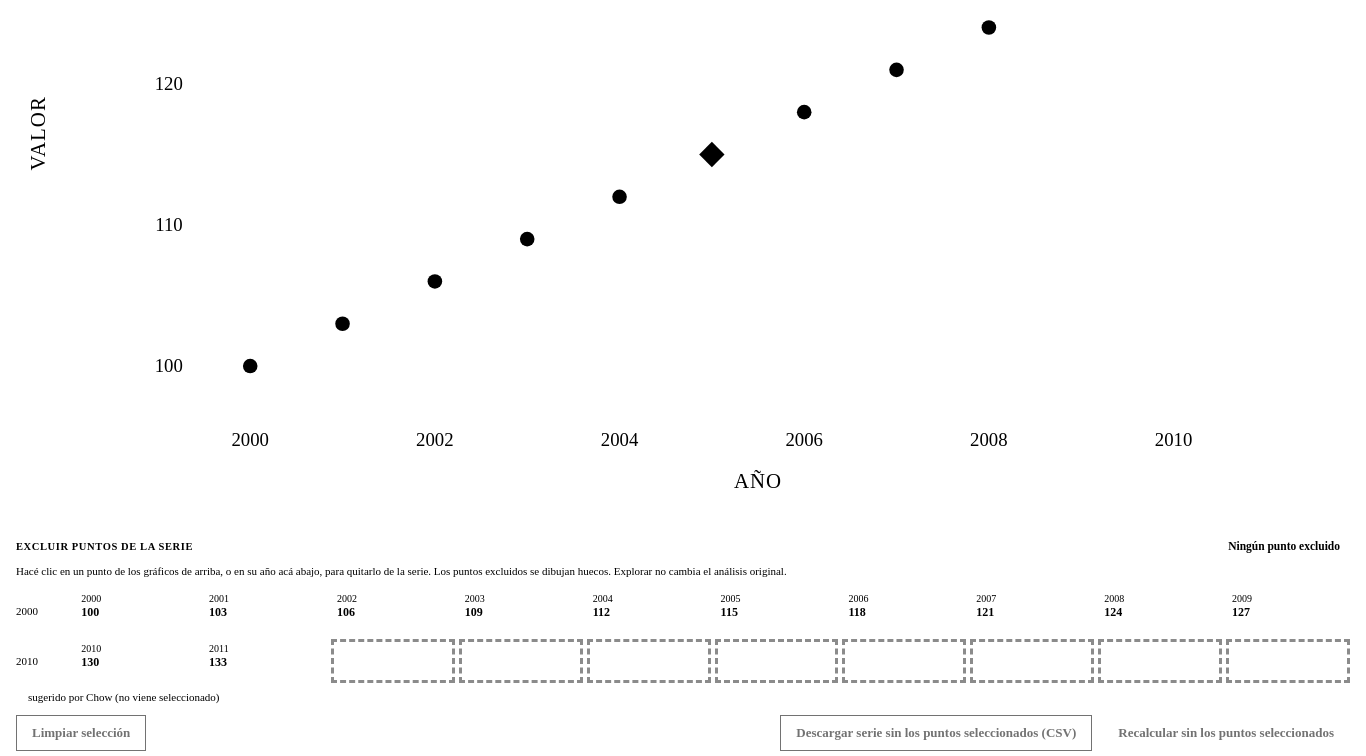
Etapa1GraficosView — recalcular sin los puntos (A2) › si el backend rechaza el pedido muestra el error y no una comparación
(page scrolled)
Click the button "2005 115" at (777, 611), box left=715, top=589, right=838, bottom=633
(page scrolled)
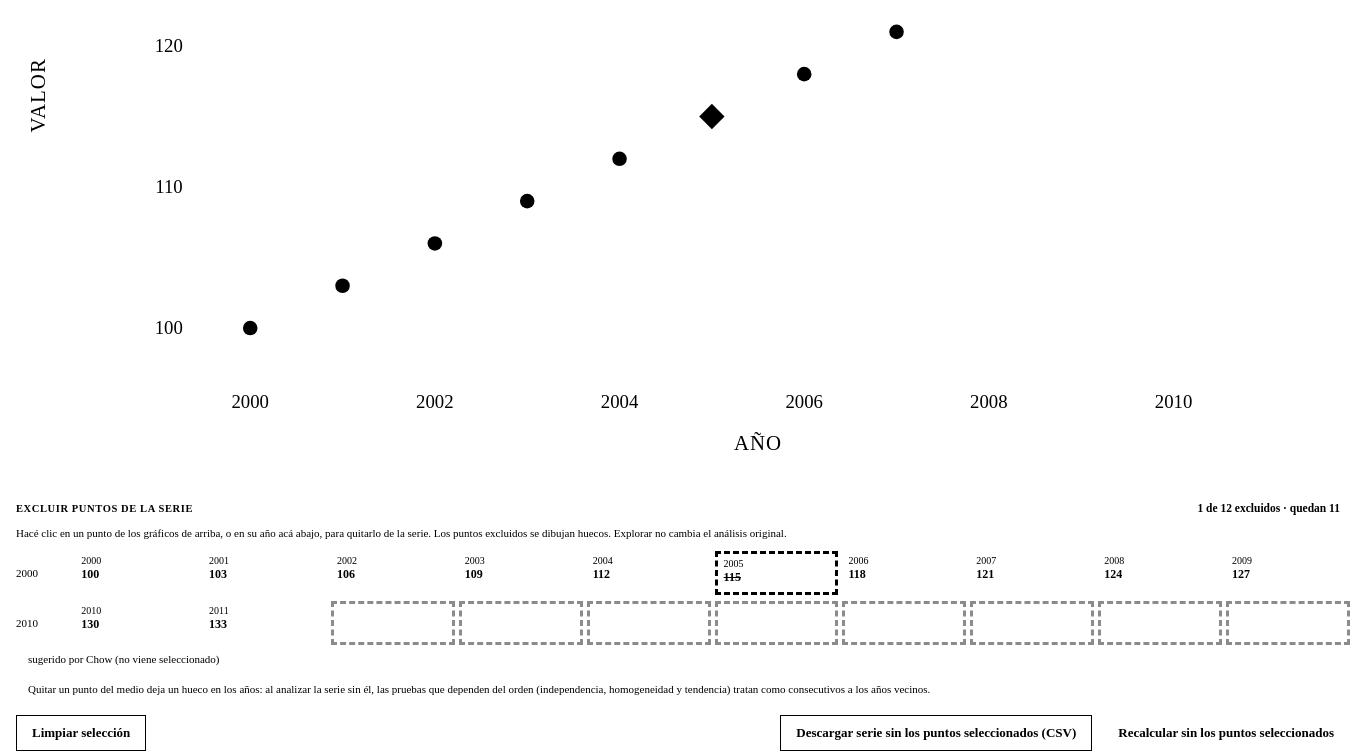
Click the button "Recalcular sin los puntos seleccionados" at (1226, 733), box left=1102, top=715, right=1350, bottom=751
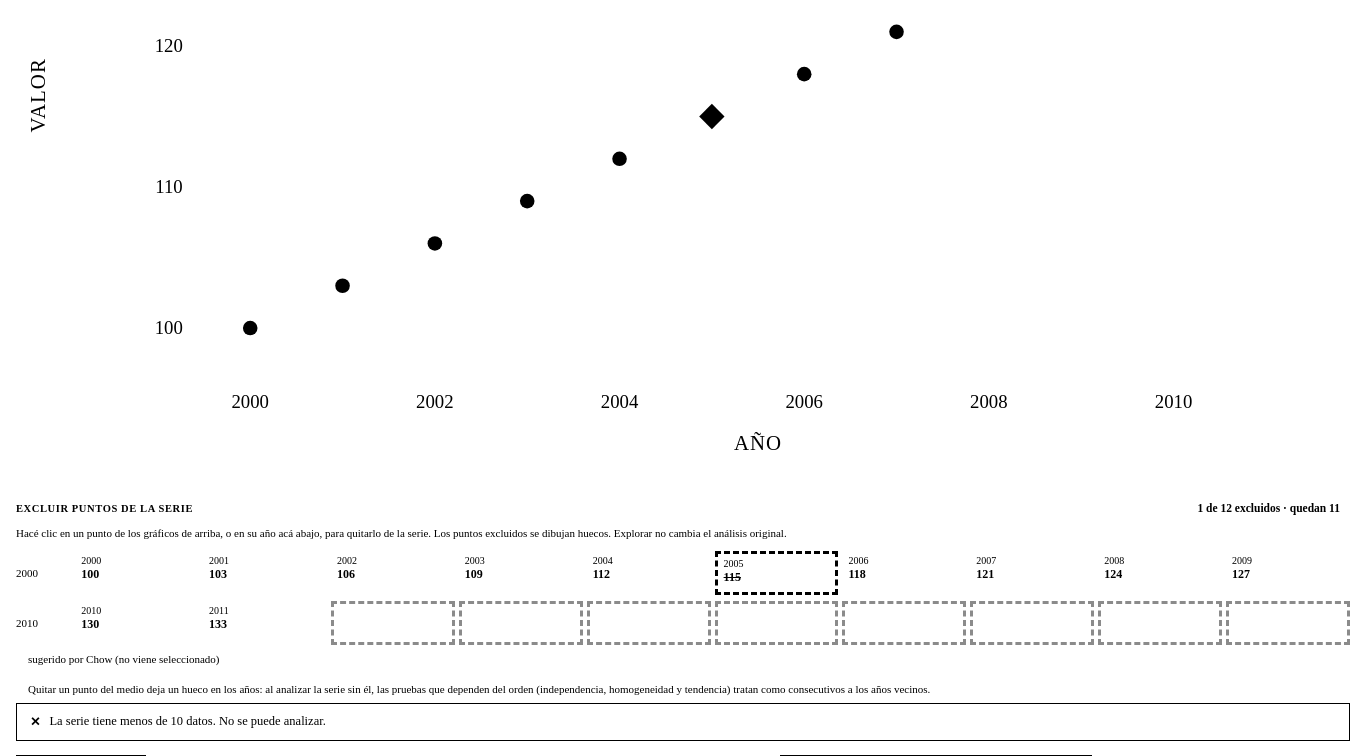
Check: the message shows "menos de 10 datos", box left=50, top=714, right=326, bottom=728
